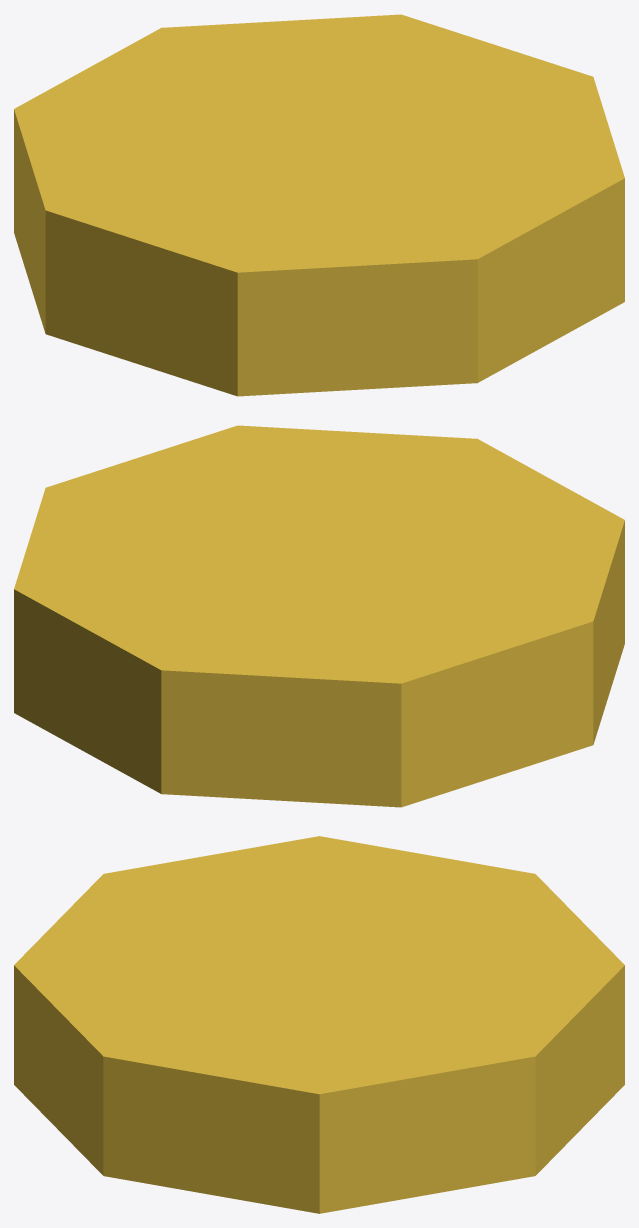
Rendered from Coin.fbx.
The picture shows the model from 3 angles, top to bottom: view 1: azimuth 30°, elevation 25°; view 2: azimuth 150°, elevation 25°; view 3: azimuth 270°, elevation 25°; orthographic projection. The views are drawn at different scales.
Parts seen in each view (by area): view 1: Coiin; view 2: Coiin; view 3: Coiin.
Boxes of the visible parts, x1,y1,x2,y2 form: Coiin: (14, 14, 624, 396); Coiin: (14, 425, 624, 807); Coiin: (14, 836, 624, 1213).
Bounding box in the file's own units: 0.9515 × 0.2055 × 0.9515.
